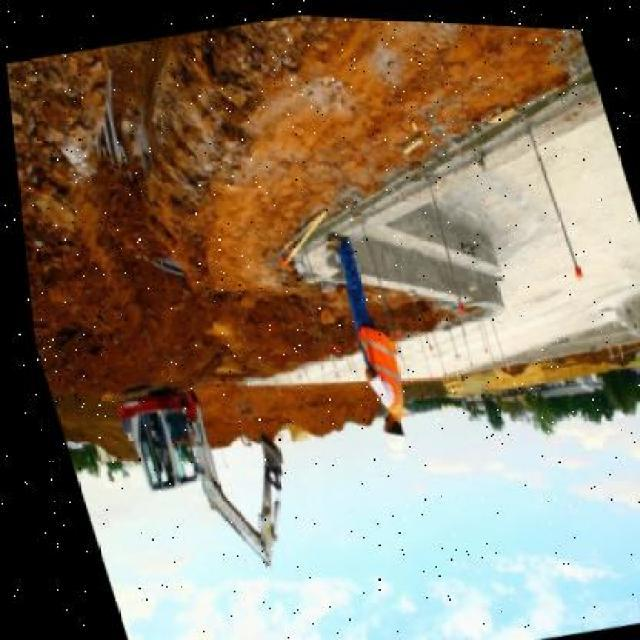vest: (341, 317, 405, 417)
